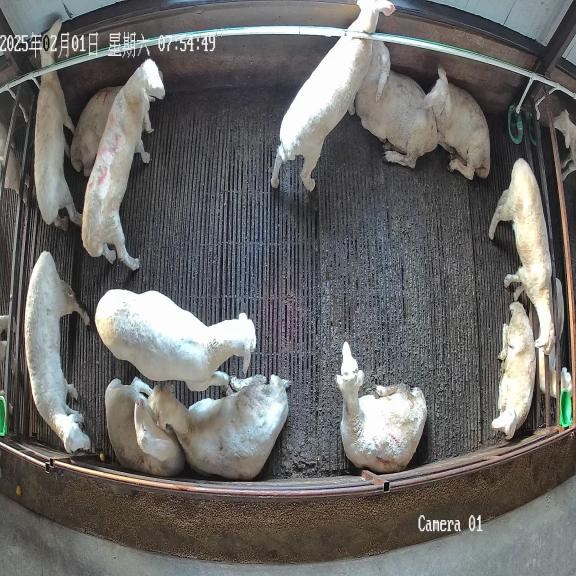lying: (144, 375, 290, 480), (335, 342, 427, 472), (349, 41, 437, 168), (105, 378, 185, 476), (424, 64, 490, 180), (491, 302, 536, 439), (70, 86, 121, 177)
stand: (271, 0, 395, 191), (82, 59, 164, 270), (95, 290, 256, 391), (24, 251, 90, 452), (489, 158, 555, 355), (34, 18, 82, 230)
